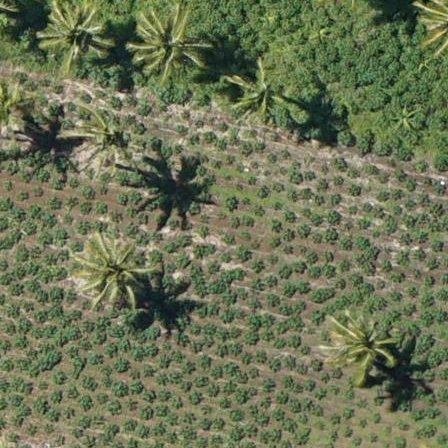palm_tree: (329, 306, 400, 378), (75, 233, 144, 307), (129, 8, 200, 78), (38, 1, 110, 66), (69, 103, 137, 167), (230, 67, 282, 116)
